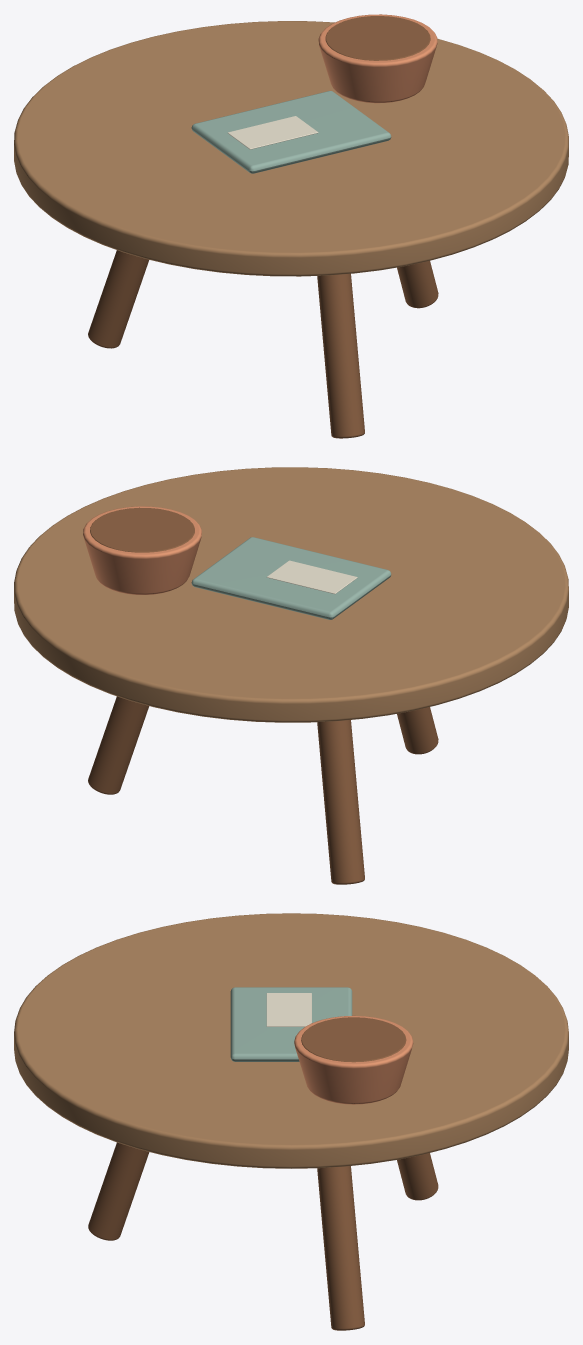
Rendered from coffeetable.glb.
3 renders of one model, top to bottom at view 1: azimuth 30°, elevation 25°; view 2: azimuth 150°, elevation 25°; view 3: azimuth 270°, elevation 25°, orthographic.
Visible parts, largest first — view 1: CoffeeTableRoot.Oak, CoffeeTableRoot.OakEdge, CoffeeTableRoot.BookSage, CoffeeTableRoot.Ceramic, CoffeeTableRoot.Paper; view 2: CoffeeTableRoot.Oak, CoffeeTableRoot.OakEdge, CoffeeTableRoot.BookSage, CoffeeTableRoot.Ceramic, CoffeeTableRoot.Paper; view 3: CoffeeTableRoot.Oak, CoffeeTableRoot.OakEdge, CoffeeTableRoot.BookSage, CoffeeTableRoot.Ceramic, CoffeeTableRoot.Paper.
Boxes of the visible parts, x1,y1,x2,y2 form: CoffeeTableRoot.Oak: (14, 21, 568, 276); CoffeeTableRoot.OakEdge: (88, 16, 438, 438); CoffeeTableRoot.BookSage: (191, 91, 391, 173); CoffeeTableRoot.Ceramic: (318, 14, 437, 103); CoffeeTableRoot.Paper: (228, 116, 318, 149); CoffeeTableRoot.Oak: (14, 467, 568, 722); CoffeeTableRoot.OakEdge: (88, 507, 438, 884); CoffeeTableRoot.BookSage: (191, 537, 391, 619); CoffeeTableRoot.Ceramic: (83, 506, 201, 594); CoffeeTableRoot.Paper: (267, 560, 357, 594); CoffeeTableRoot.Oak: (14, 913, 568, 1168); CoffeeTableRoot.OakEdge: (88, 1017, 438, 1330); CoffeeTableRoot.BookSage: (230, 987, 352, 1061); CoffeeTableRoot.Ceramic: (294, 1015, 413, 1104); CoffeeTableRoot.Paper: (266, 993, 311, 1026).
Size of the model in its own units: 0.98 by 0.5312 by 0.98.
